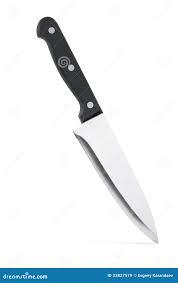Knife: (35, 16, 158, 243)
